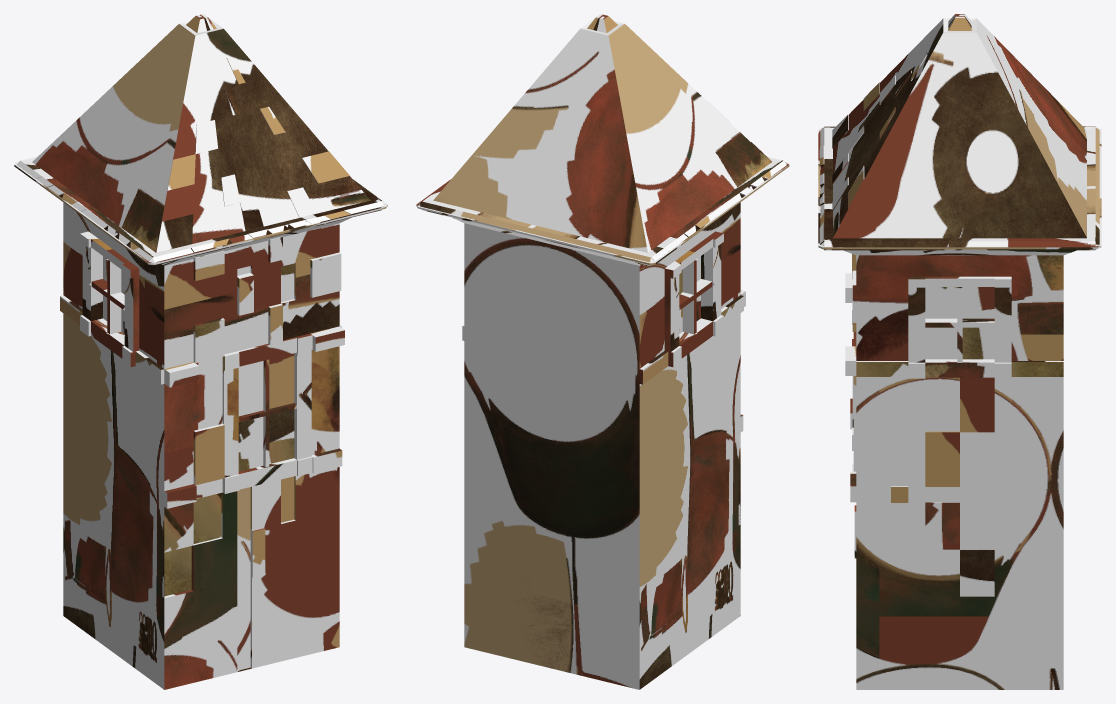
File: tower_house_2.obj
3 renders of one model, left to right at view 1: azimuth 30°, elevation 25°; view 2: azimuth 150°, elevation 25°; view 3: azimuth 270°, elevation 25°, orthographic. The views are drawn at different scales.
Parts seen in each view (by area): view 1: Cube.007; view 2: Cube.007; view 3: Cube.007.
Boxes of the visible parts, x1=… form: Cube.007: x1=14, y1=14, x2=387, y2=689; Cube.007: x1=416, y1=14, x2=789, y2=689; Cube.007: x1=818, y1=14, x2=1101, y2=689.
Bounding box in the file's own units: 5.56 × 13.67 × 5.56.
